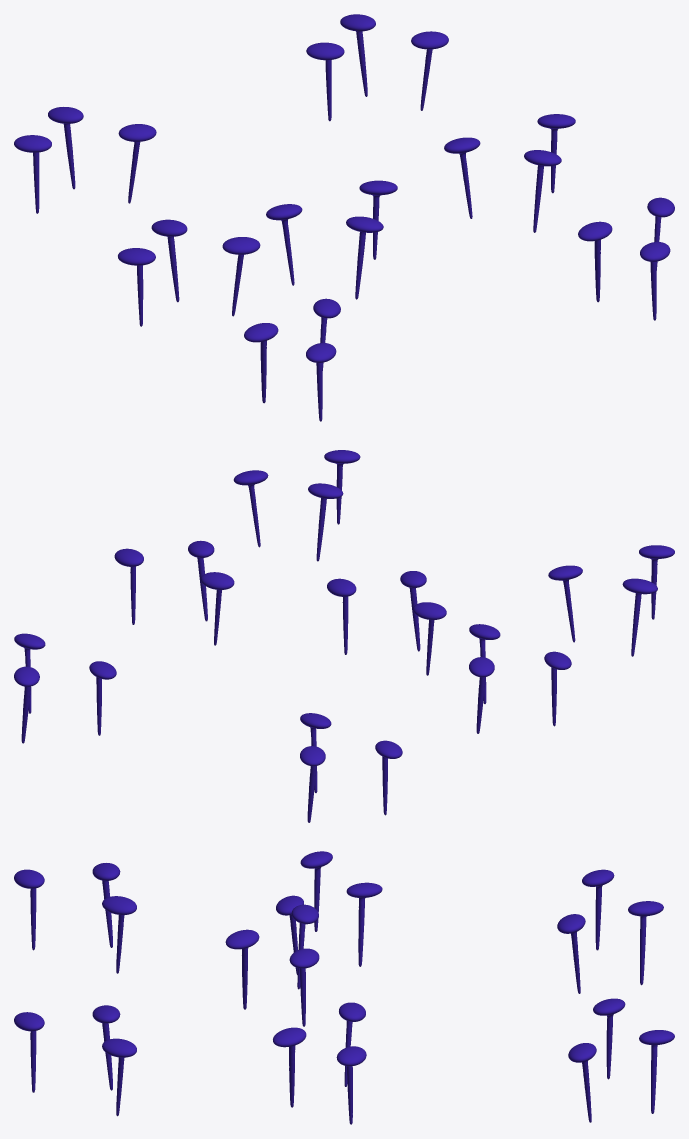
Rendered from poles.glb.
The picture shows the model from 3 angles, top to bottom: view 1: azimuth 30°, elevation 25°; view 2: azimuth 150°, elevation 25°; view 3: azimuth 270°, elevation 25°; orthographic projection. The views are drawn at different scales.
Visible parts, largest first — view 1: Retopo_inst_2.002; view 2: Retopo_inst_2.002; view 3: Retopo_inst_2.002.
Boxes of the visible parts, x1,y1,x2,y2 form: Retopo_inst_2.002: (14, 14, 674, 421); Retopo_inst_2.002: (14, 450, 674, 822); Retopo_inst_2.002: (14, 851, 674, 1124).
Size of the model in its own units: 5.4 by 1.12 by 6.65.
